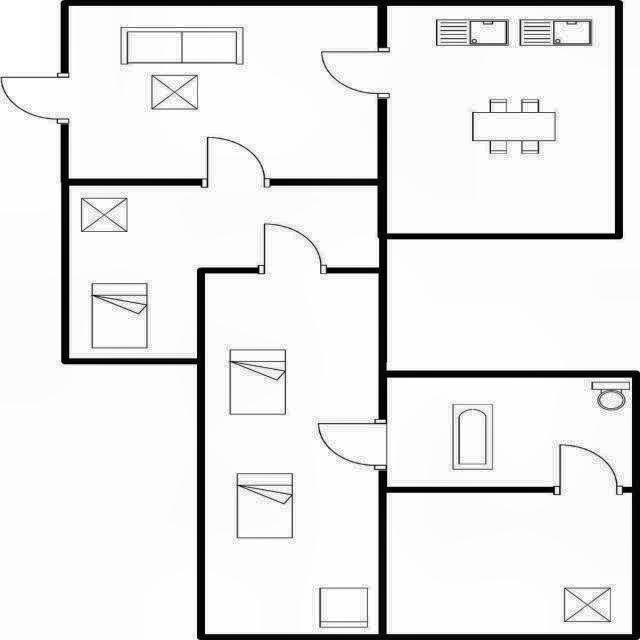room: (205, 273, 379, 634), (69, 185, 379, 358), (69, 6, 378, 179), (387, 6, 615, 234), (386, 493, 632, 634), (387, 377, 632, 487)
